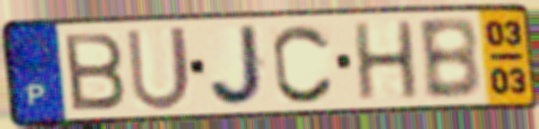B: (414, 14, 485, 102), (60, 29, 129, 113)
C: (269, 21, 338, 106)
H: (350, 17, 423, 103)
J: (206, 22, 270, 109)
U: (122, 23, 194, 114)
